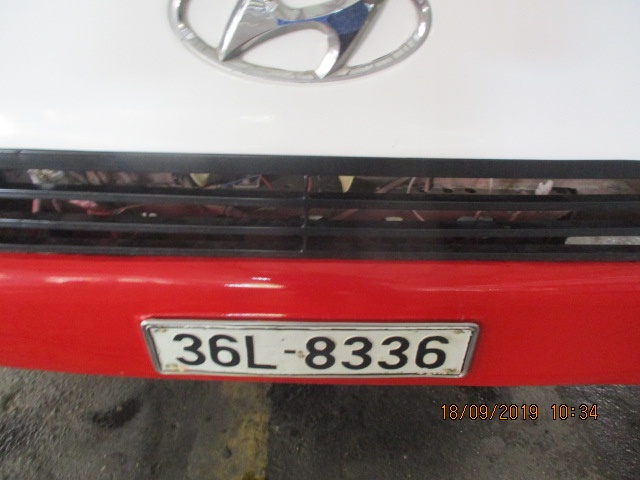number_plate: (148, 326, 465, 378)
